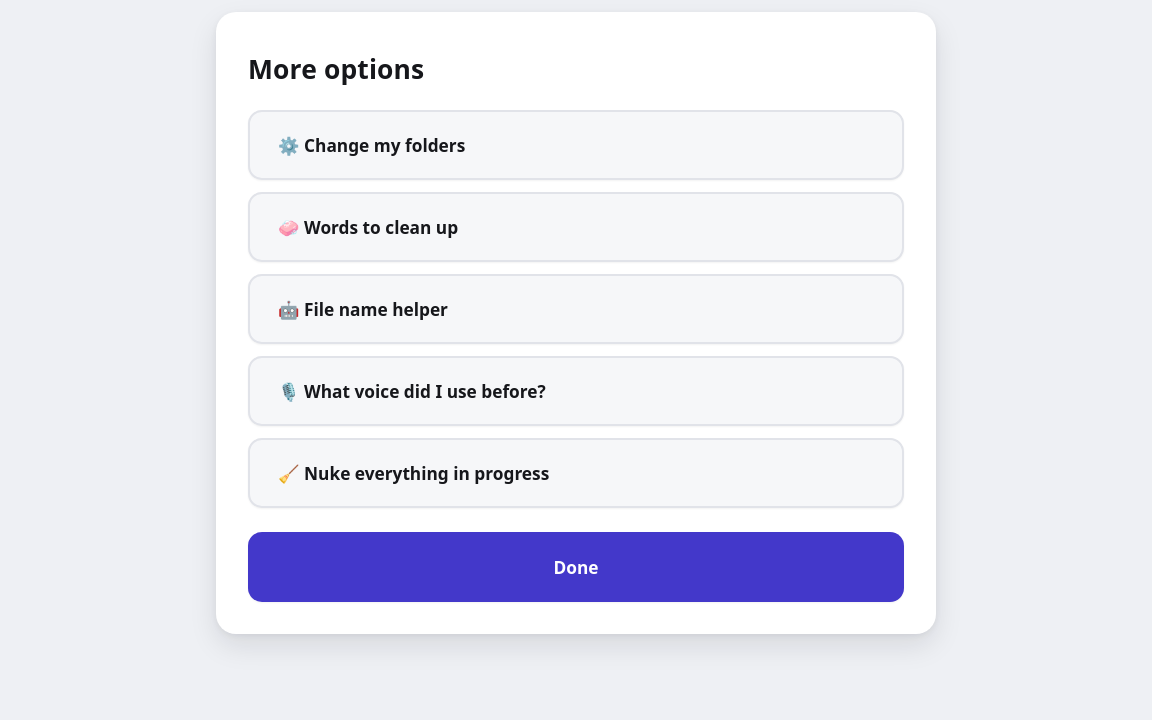
MoreOptionsScreen › clean up stuck in-progress state › does nothing until the confirm dialog is accepted
Click the button "🧹 Nuke everything in progress": (414, 473) left=248, top=438, right=904, bottom=508
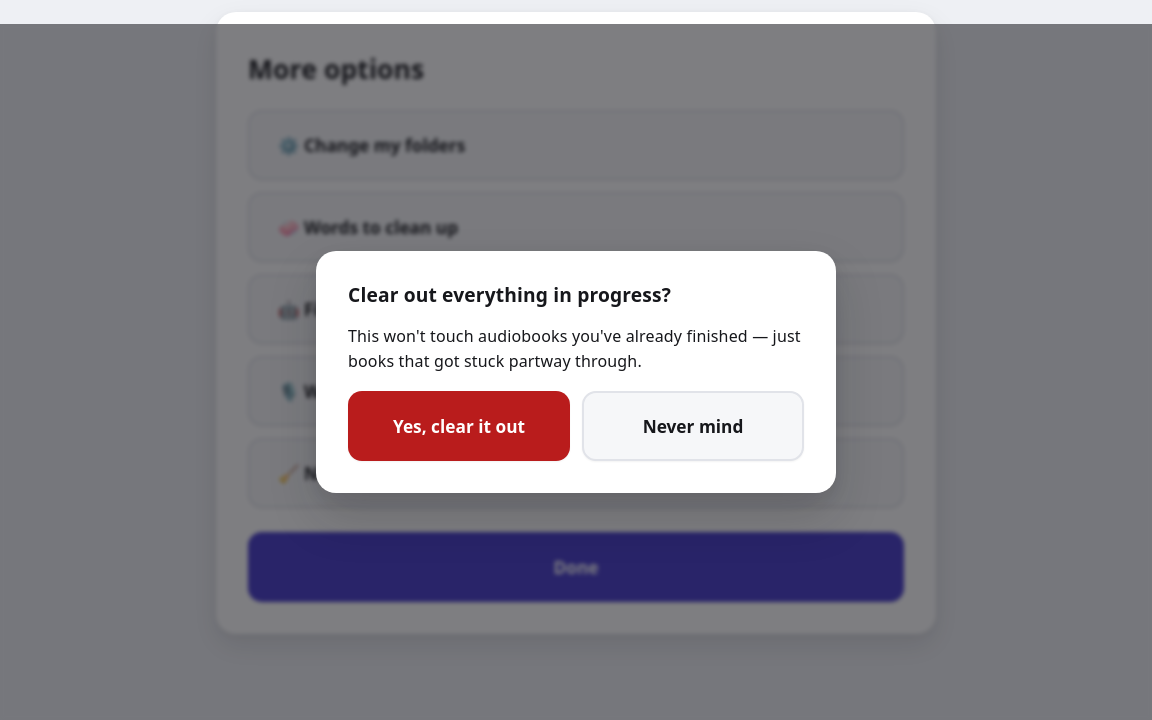
Check: the heading "Clear out everything in progress?" is shown, box left=348, top=281, right=671, bottom=308
Click the button "Never mind": (693, 426) left=582, top=391, right=804, bottom=461
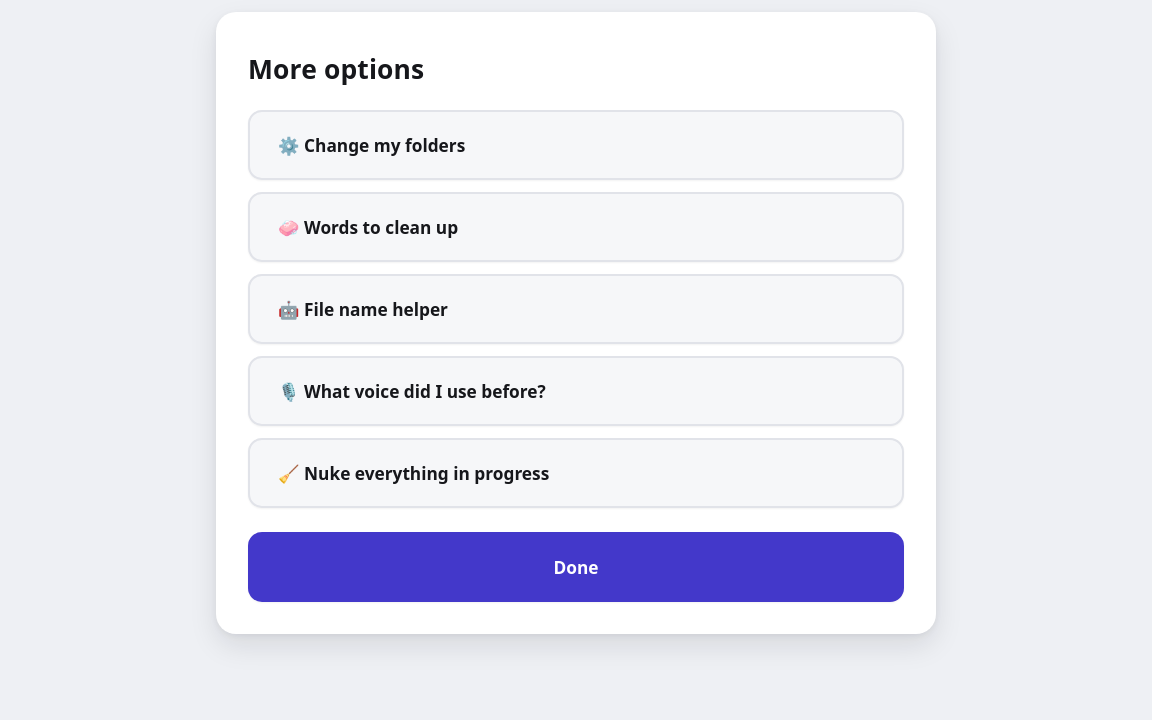
Check: the heading "Clear out everything in progress?" is gone
